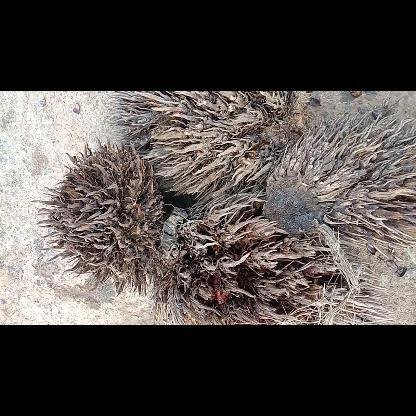Janjang kosong: (153, 196, 395, 324), (107, 91, 304, 203), (263, 114, 415, 258), (32, 138, 164, 294)
